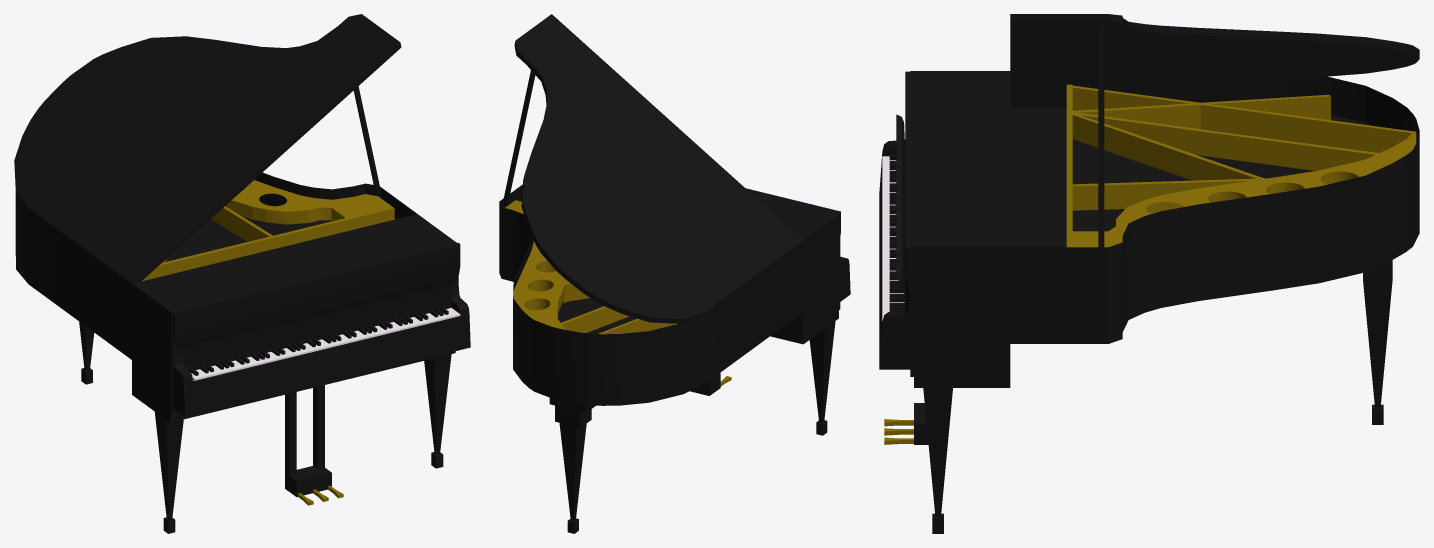
File: sh_blend_swap_cc_0_pianoaqueue.glb
3 views of the same model, side by side, from view 1: azimuth 30°, elevation 25°; view 2: azimuth 150°, elevation 25°; view 3: azimuth 270°, elevation 25° (orthographic). The views are drawn at different scales.
Size of the model in its own units: 1.32 by 1.78 by 1.7.
